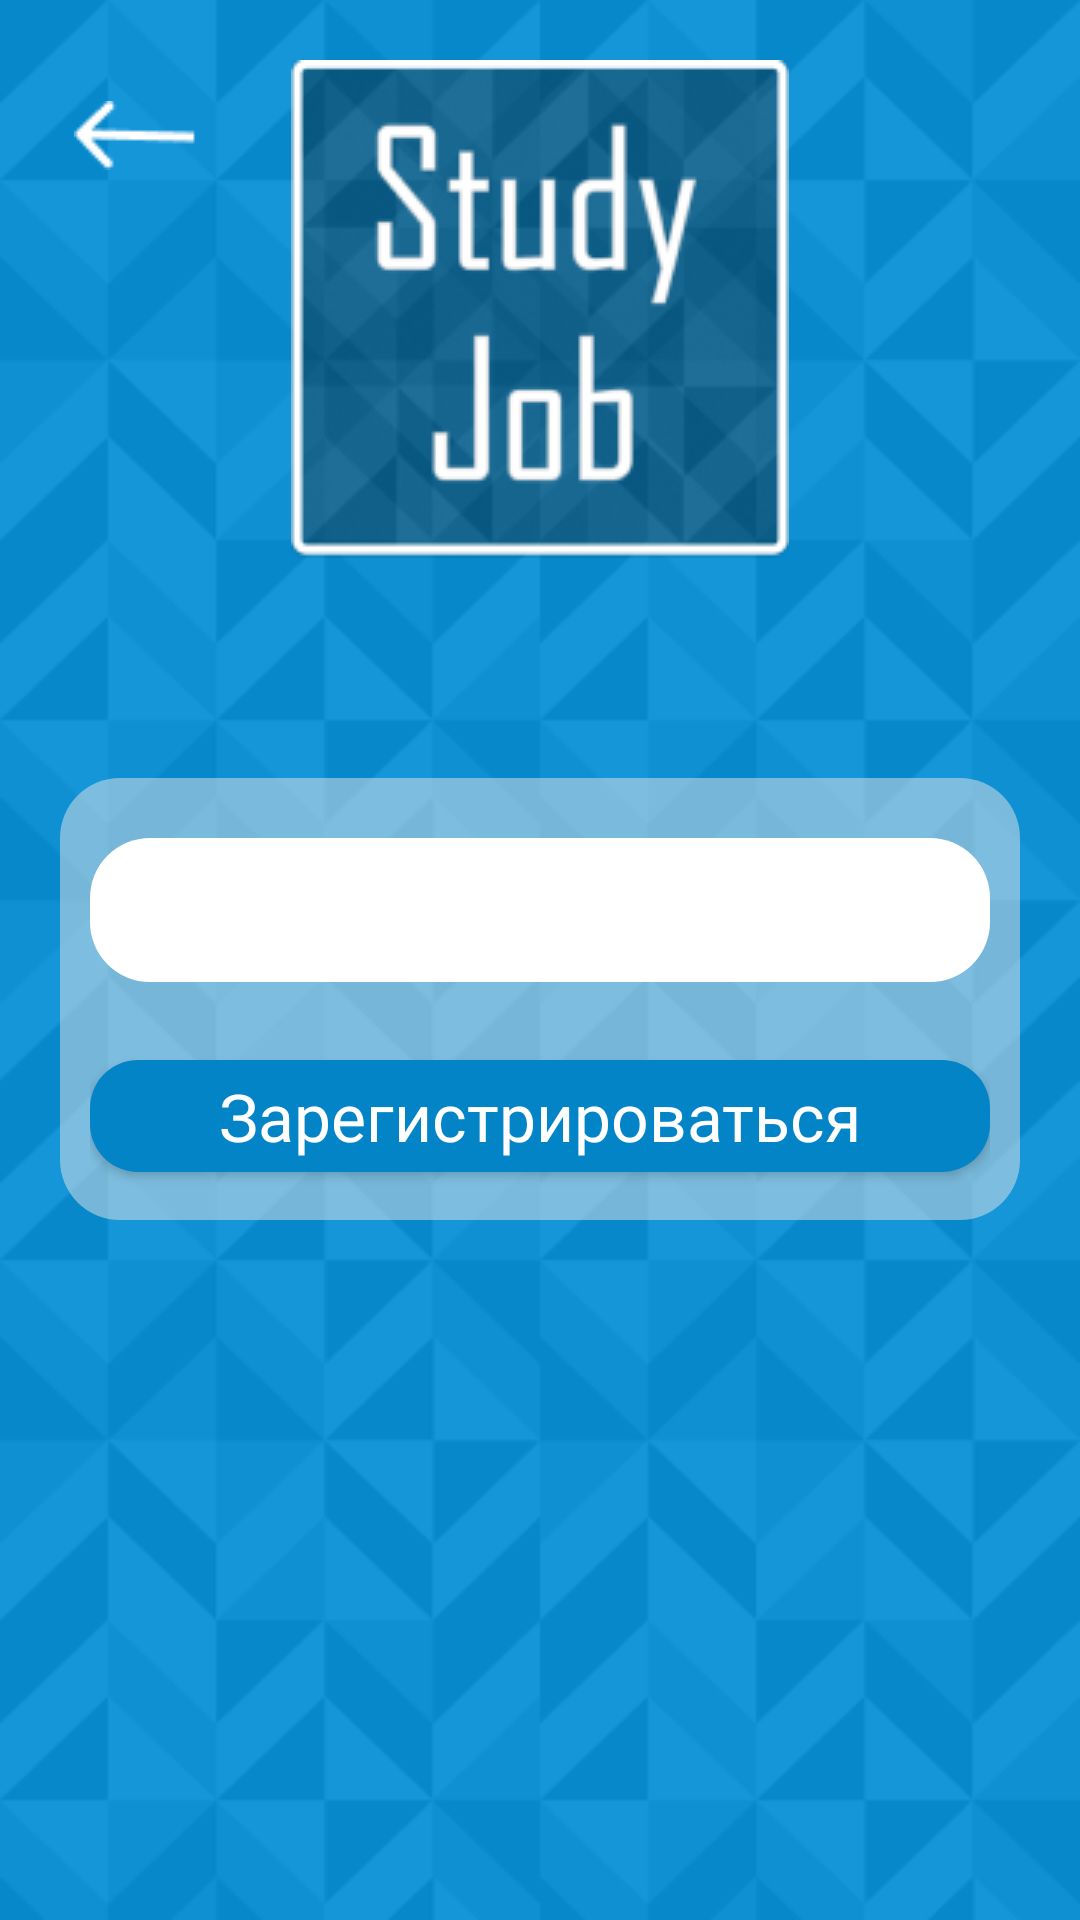

Icon click points for this 1080px x 1920px phone screenshot, format (x=x, y=y):
arrow: (x=134, y=135)
